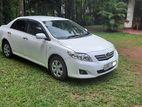car: (0, 15, 120, 81)
